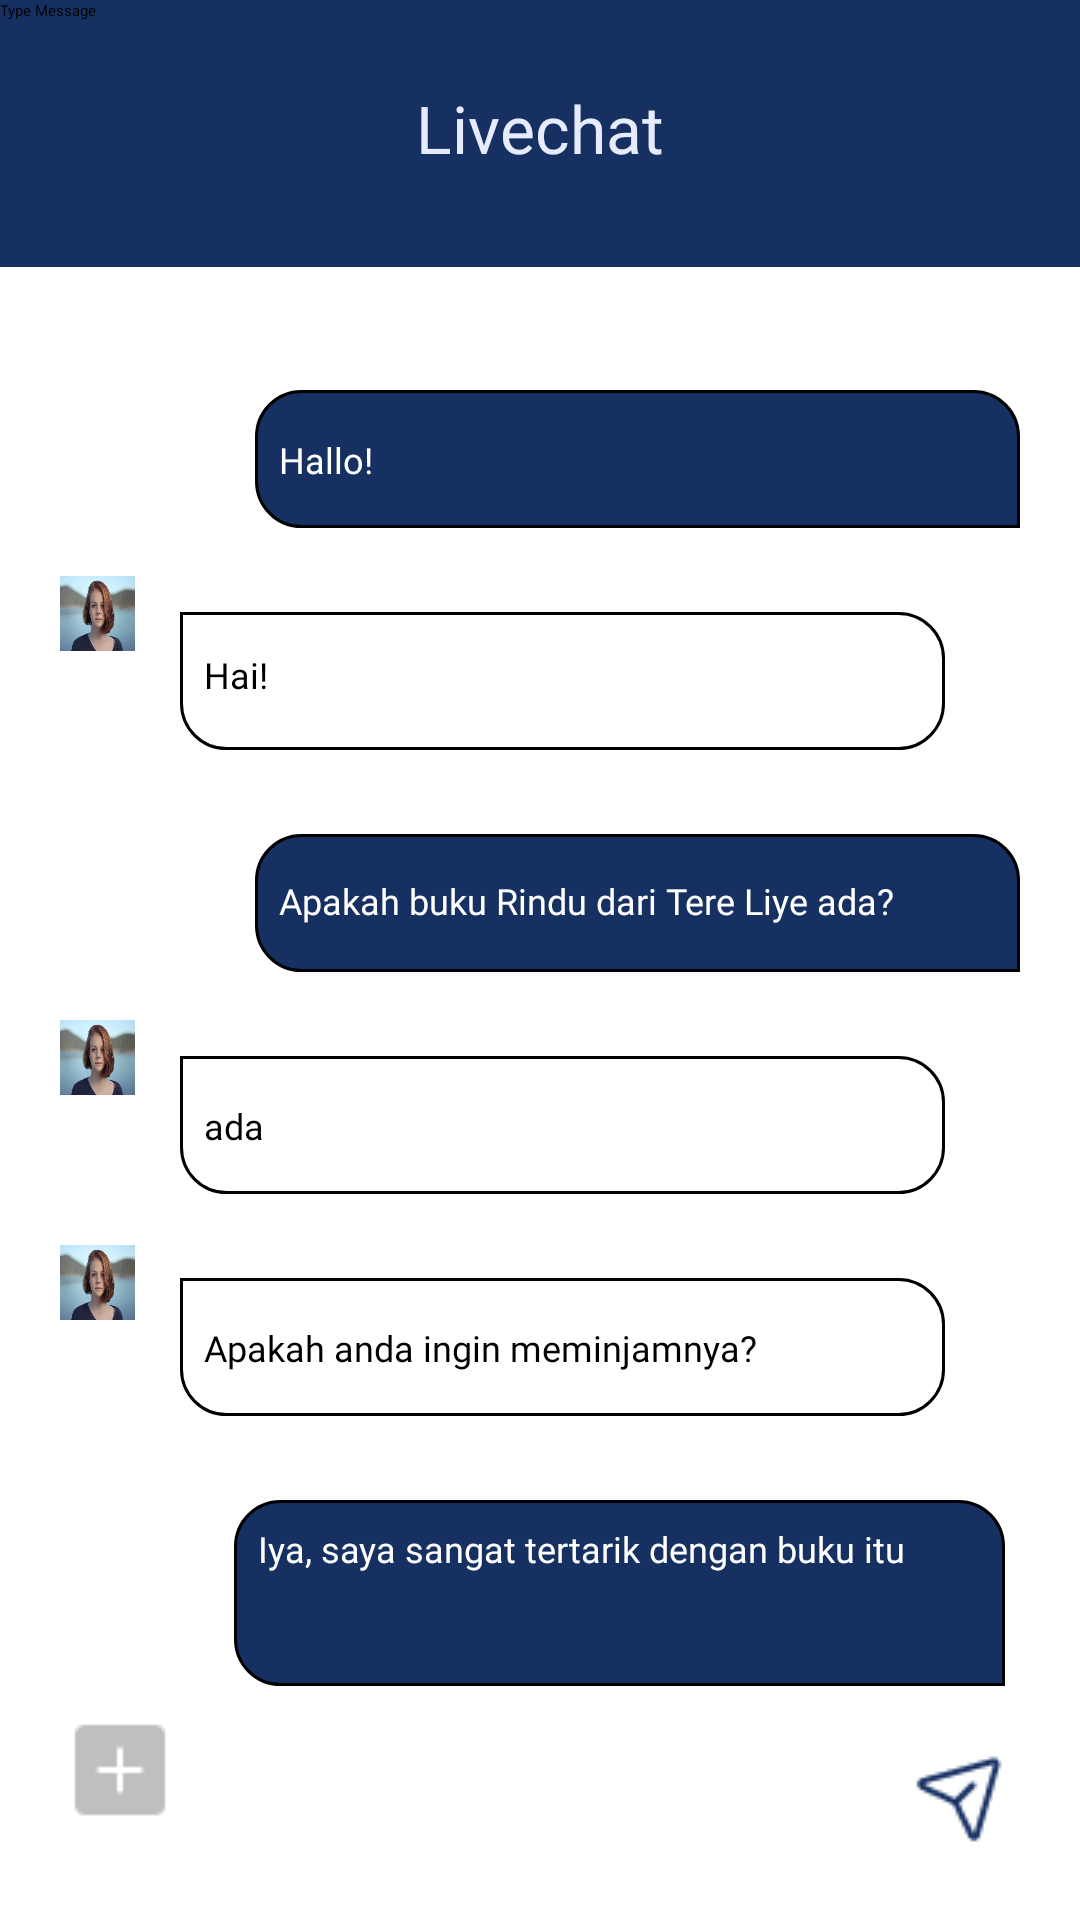

Point at icon controls on the screen. Image size 1080x1920, points as point (x, y).
chatprofile: point (97, 613), point (97, 1057), point (97, 1282)
plusicon: point (120, 1770)
sendicon: point (959, 1799)
